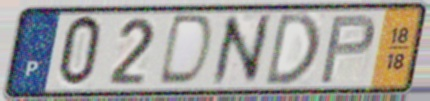0: (55, 12, 106, 92)
2: (106, 16, 158, 87)
D: (154, 12, 217, 90), (261, 10, 323, 89)
N: (209, 11, 273, 90)
P: (317, 12, 378, 86)
